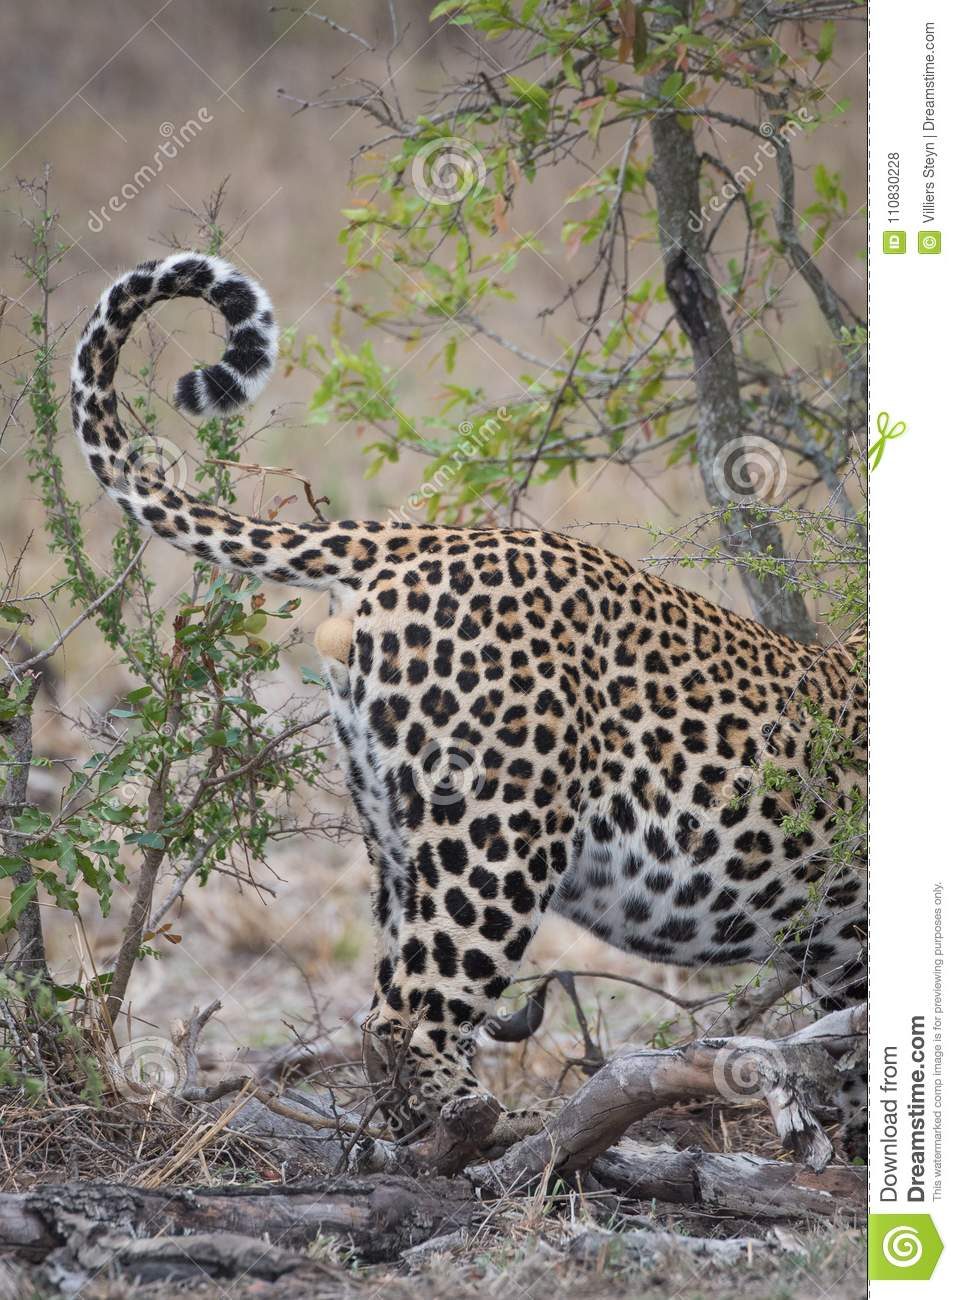leopard: (58, 235, 866, 1165)
